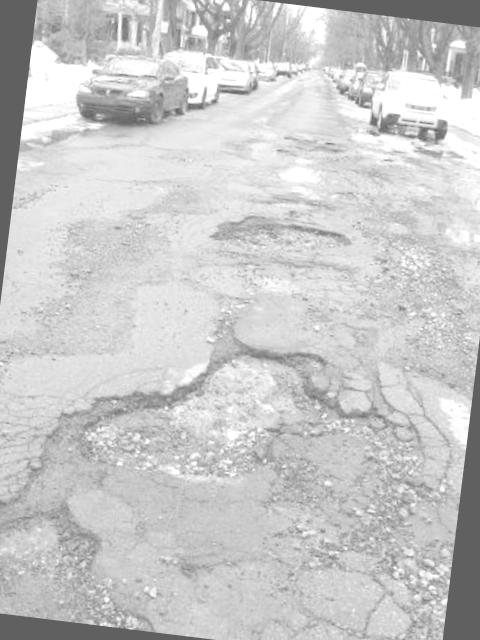Pothole: (66, 286, 408, 522), (0, 486, 160, 629), (204, 192, 370, 270), (266, 124, 344, 166)
